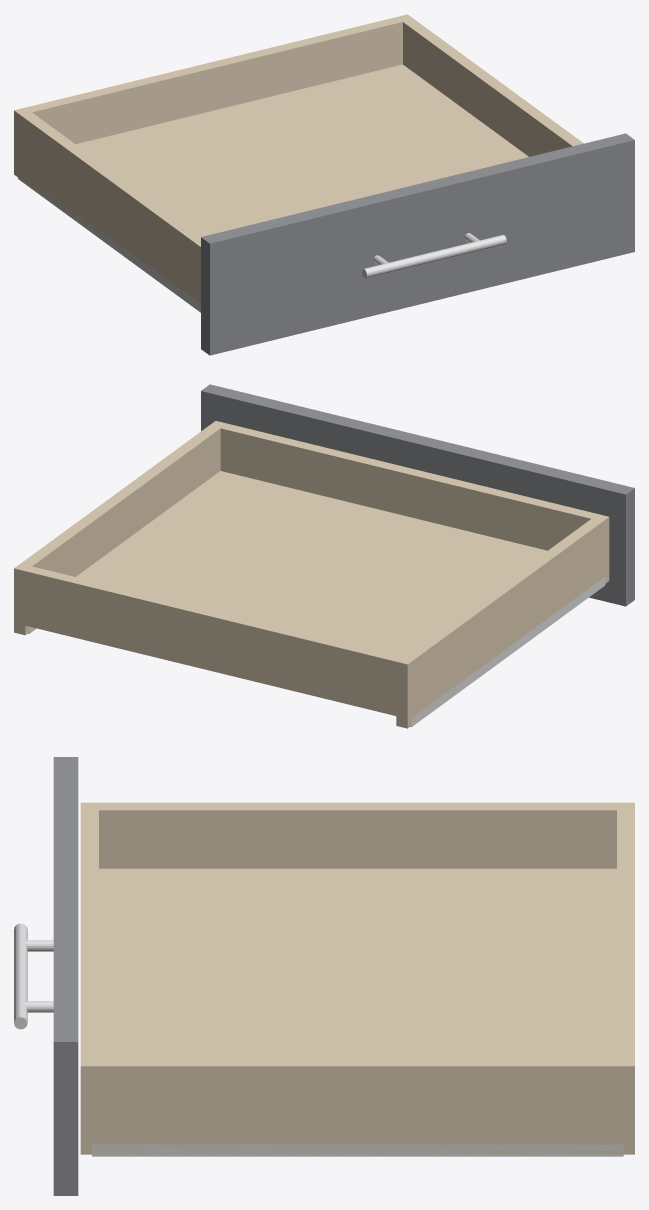
The model's file is skuff_K2_3.glb.
3 renders of one model, top to bottom at view 1: azimuth 30°, elevation 25°; view 2: azimuth 150°, elevation 25°; view 3: azimuth 270°, elevation 25°, orthographic. The views are drawn at different scales.
Bounding box in the file's own units: 596 × 150 × 549.
